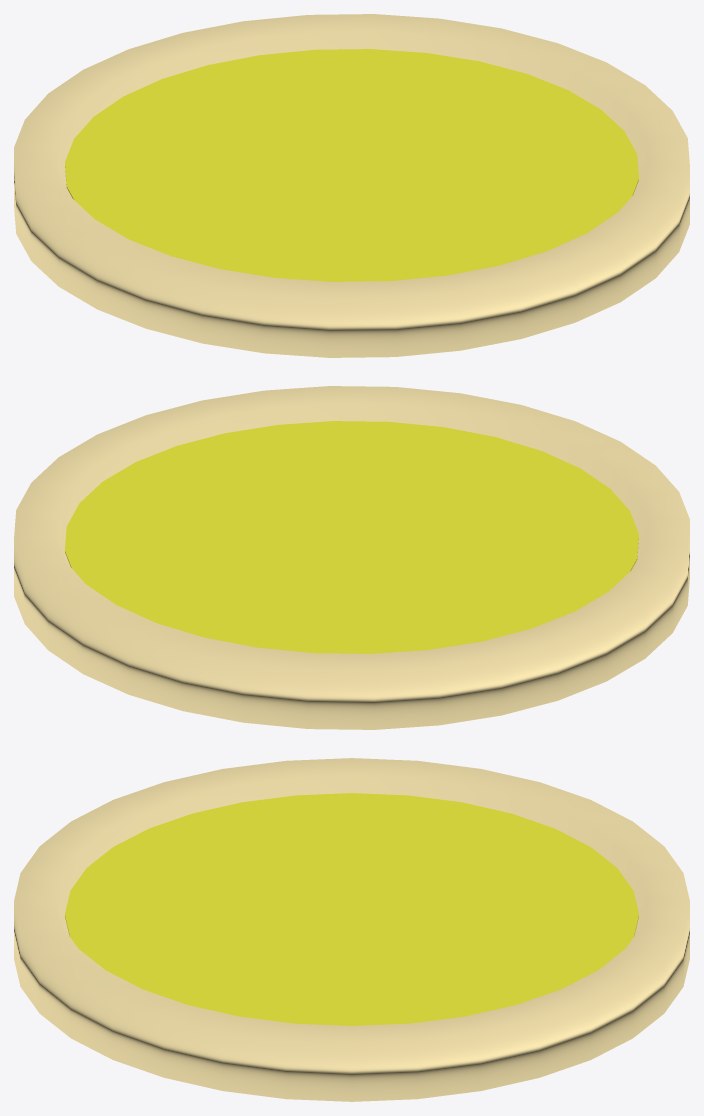
The model's file is FlattenedDoughCheese.glb.
The picture shows the model from 3 angles, top to bottom: view 1: azimuth 30°, elevation 25°; view 2: azimuth 150°, elevation 25°; view 3: azimuth 270°, elevation 25°; orthographic projection.
Visible parts, largest first — view 1: Sauce, Dough; view 2: Sauce, Dough; view 3: Sauce, Dough.
Boxes of the visible parts, box(x1,y1,x2,y2) form: Sauce: box(65, 49, 638, 281); Dough: box(14, 14, 689, 357); Sauce: box(65, 421, 638, 653); Dough: box(14, 386, 689, 729); Sauce: box(65, 793, 638, 1025); Dough: box(14, 758, 689, 1101).
Size of the model in its own units: 2 by 0.1899 by 2.
